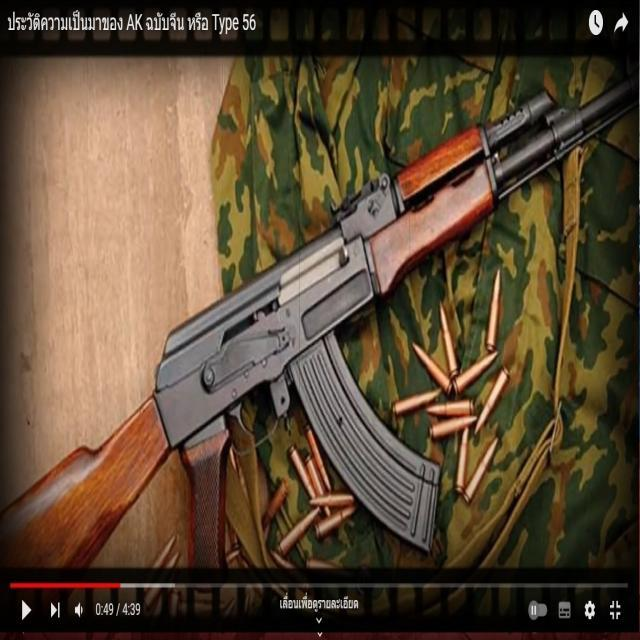ak: (6, 68, 622, 582)
